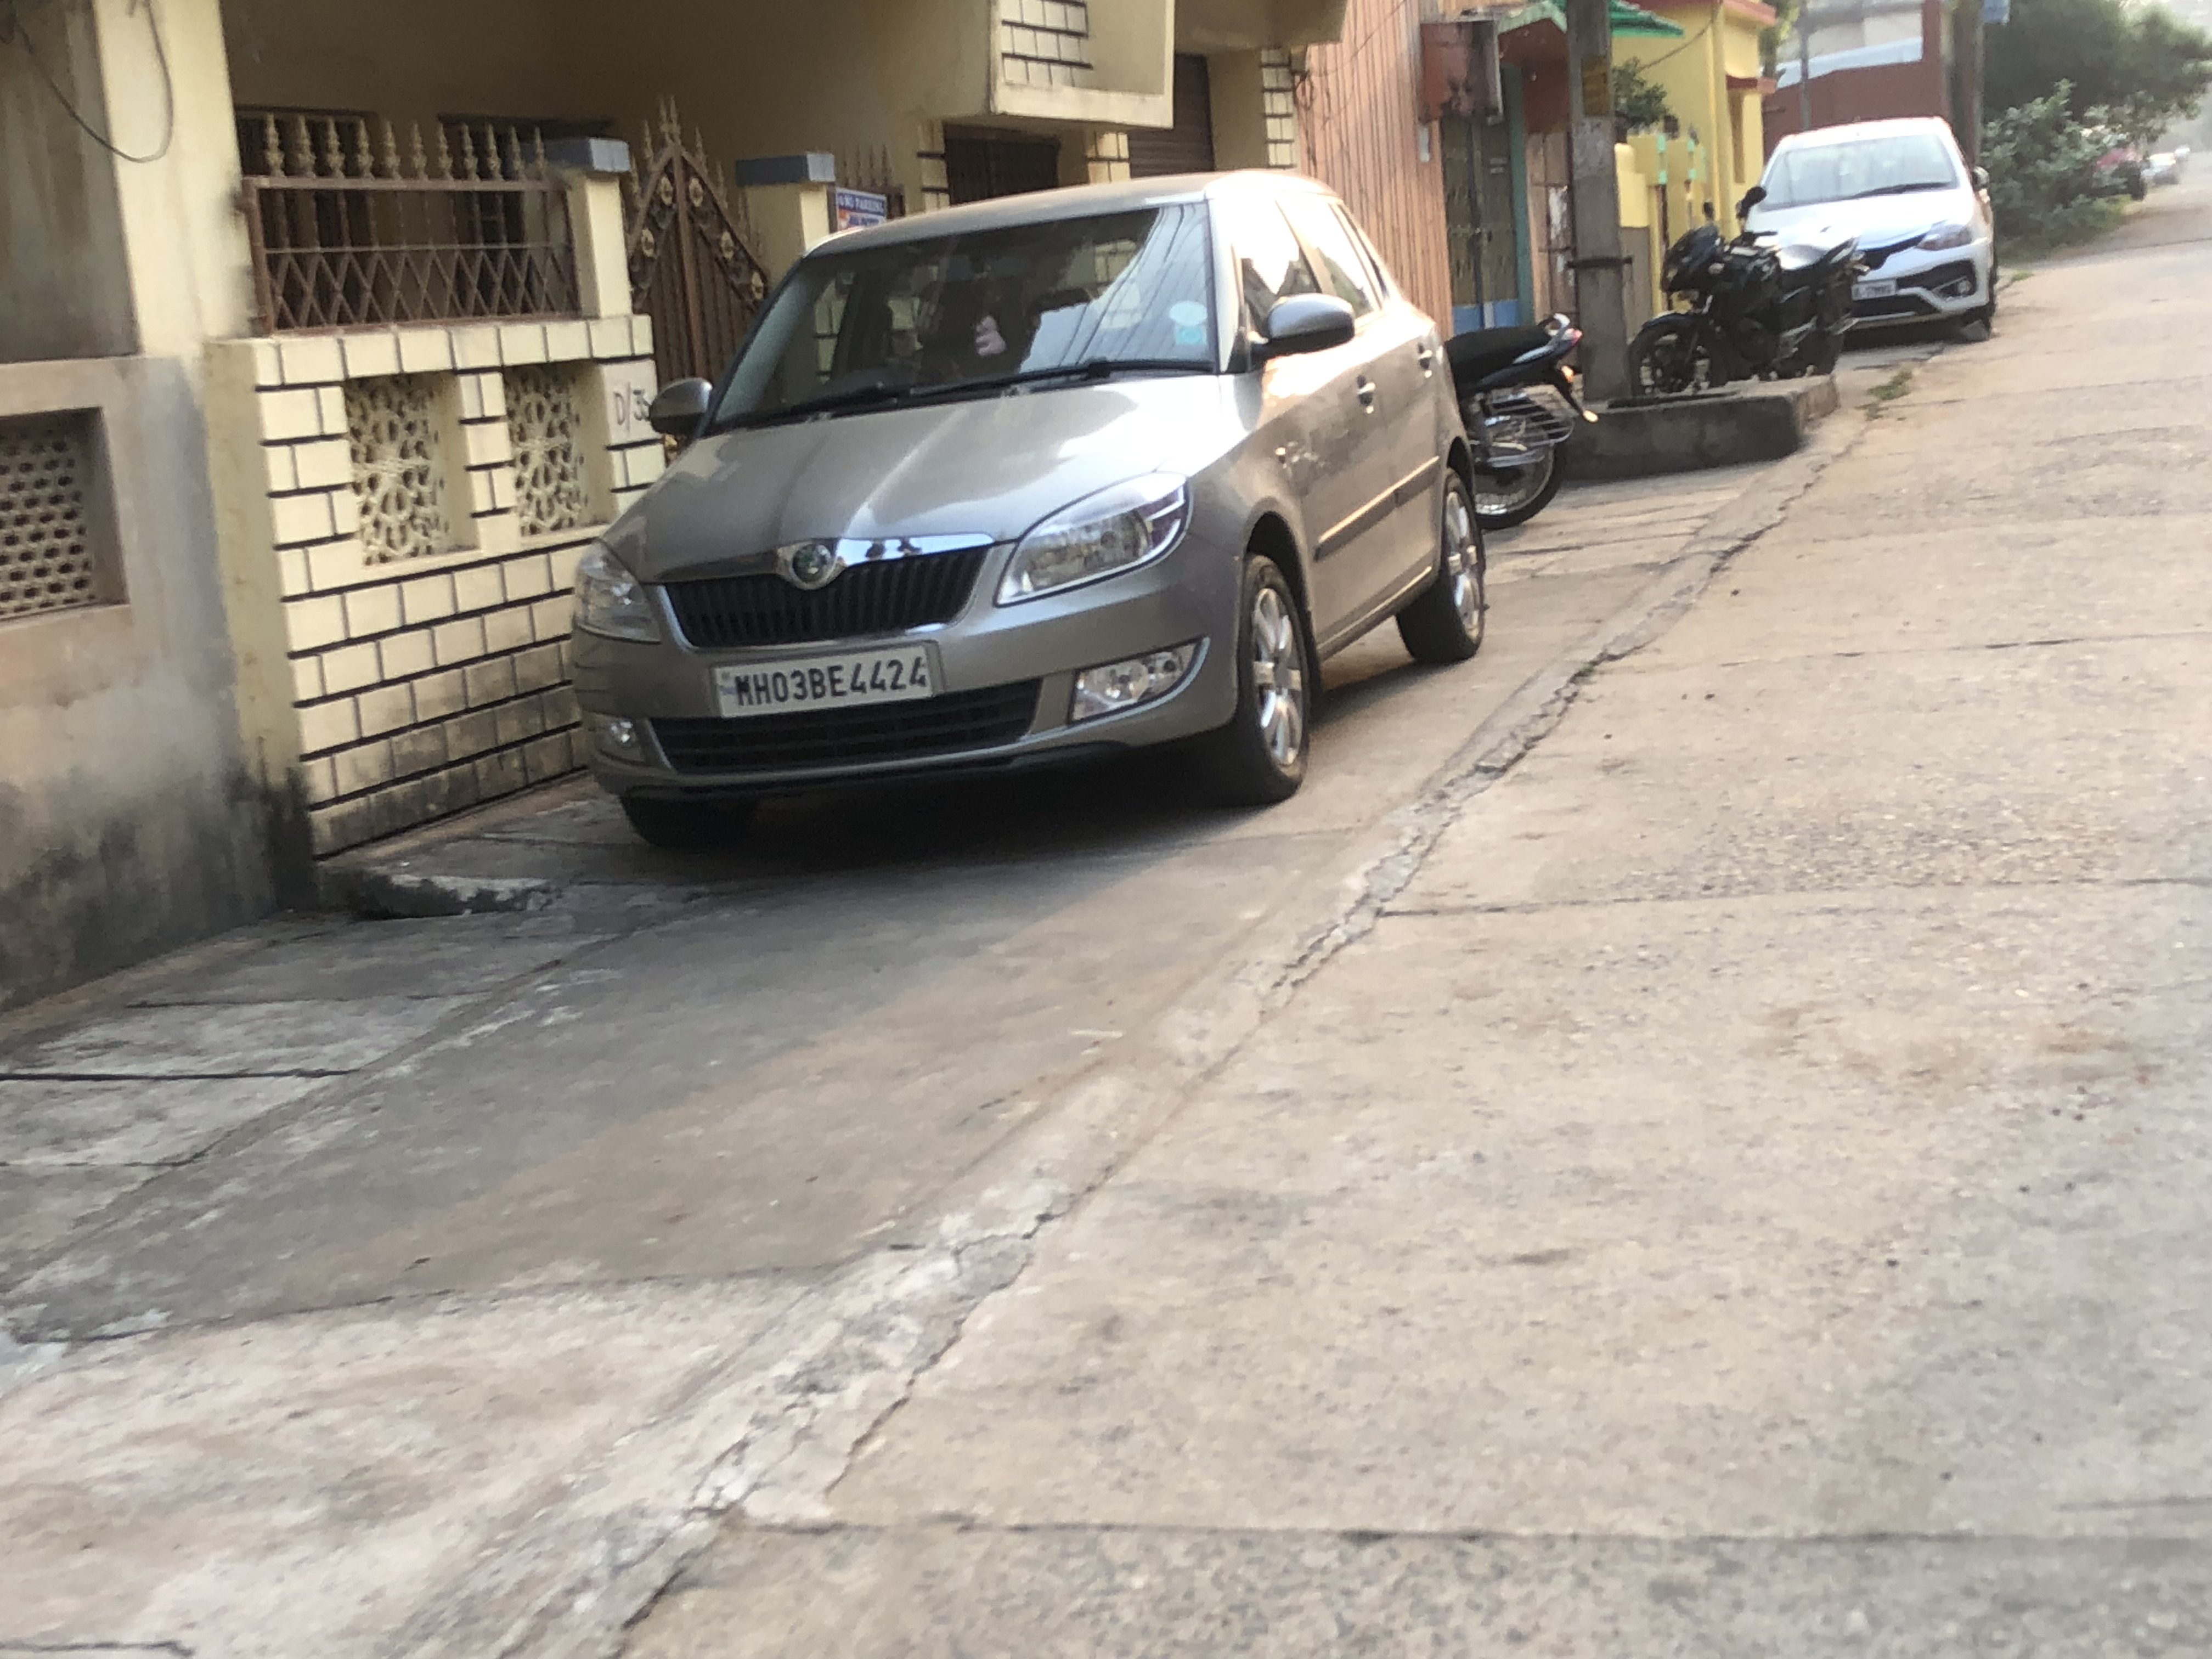licenseplate: (687, 642, 951, 737)
